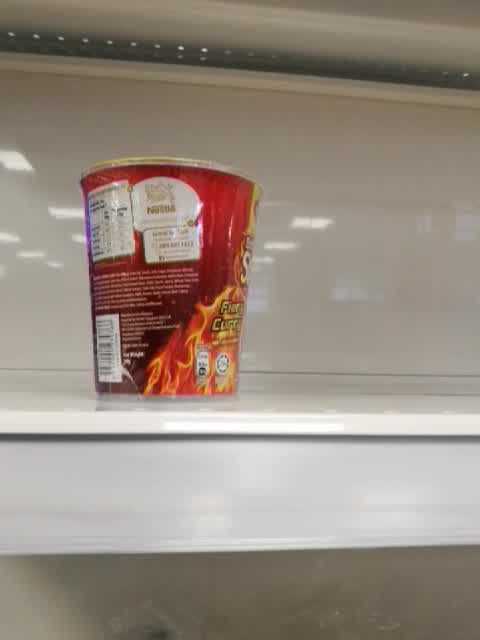maggi: (76, 154, 265, 408)
